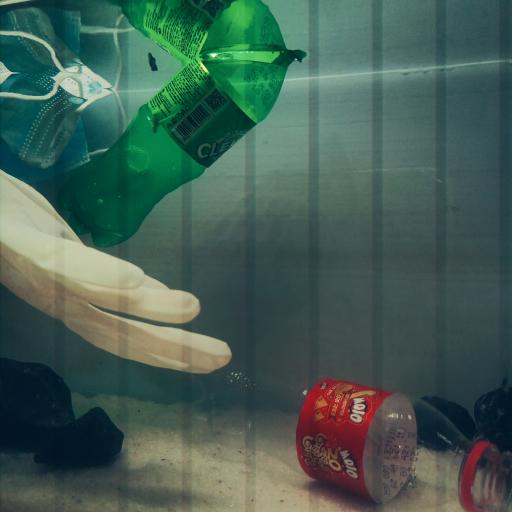glove: (0, 166, 232, 374)
mask: (0, 72, 126, 171)
plastic_bottle: (57, 53, 304, 246), (188, 367, 512, 512)
